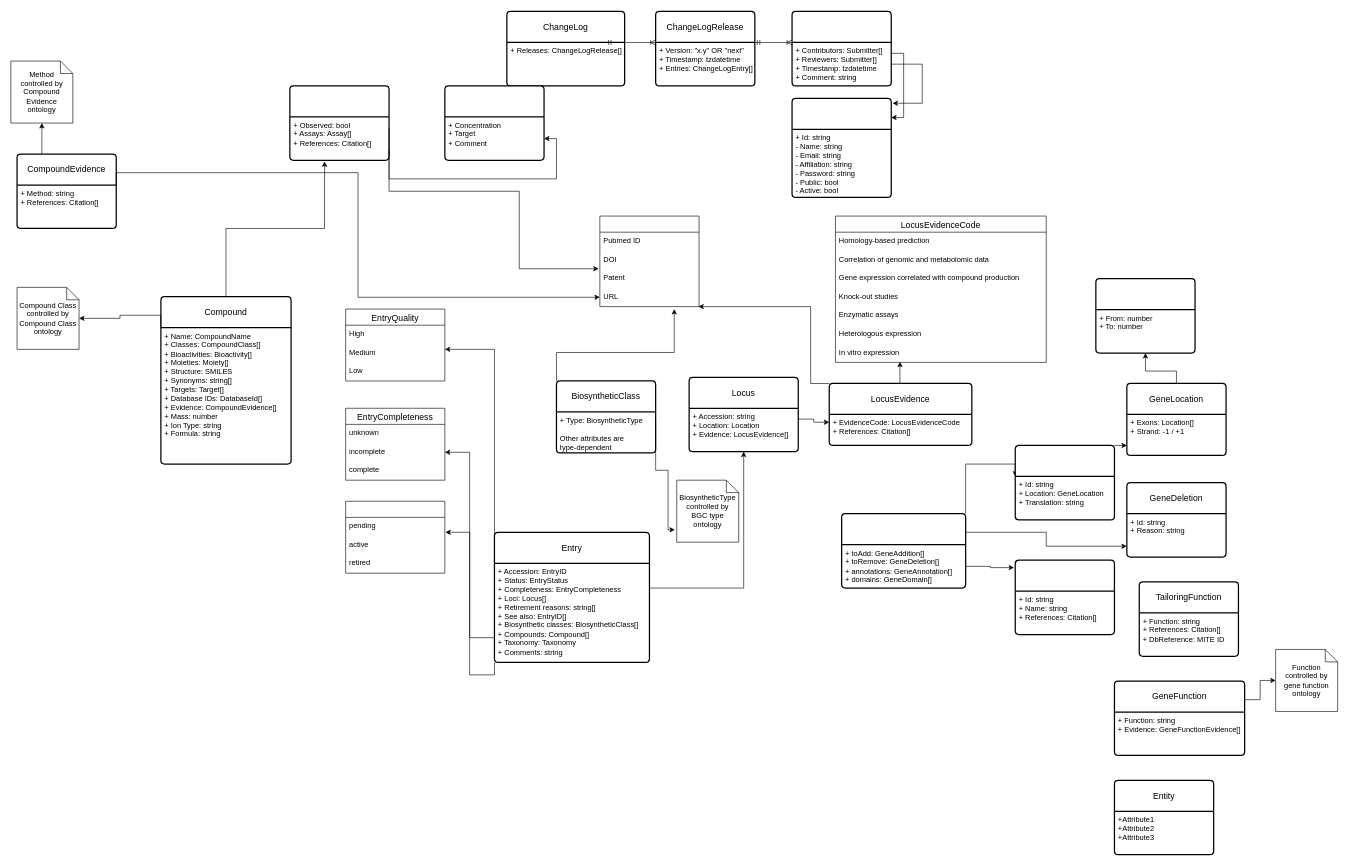
The diagram is 1349 pixels wide and 866 high, and some of its shapes have lost their labels. Here are the shapes that lost their labels. From the top down, the box of each, then its label:
(791, 11, 892, 86): ChangeLogEntry
(289, 85, 389, 161): Bioactivity
(444, 85, 544, 161): Assay
(791, 97, 892, 198): Submitter
(599, 215, 699, 307): Citation
(1095, 278, 1195, 353): Location
(1014, 445, 1115, 520): GeneAddition
(345, 501, 445, 573): EntryStatus
(841, 513, 966, 588): Genes
(1014, 559, 1115, 635): GeneAnnotation
